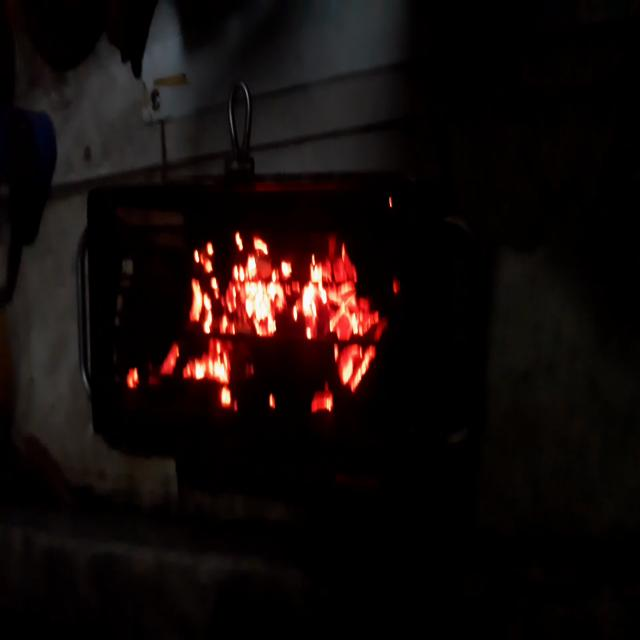Fire: (118, 237, 405, 434)
